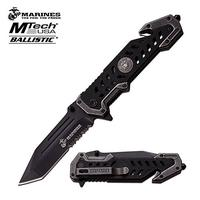knife: (15, 8, 173, 191)
